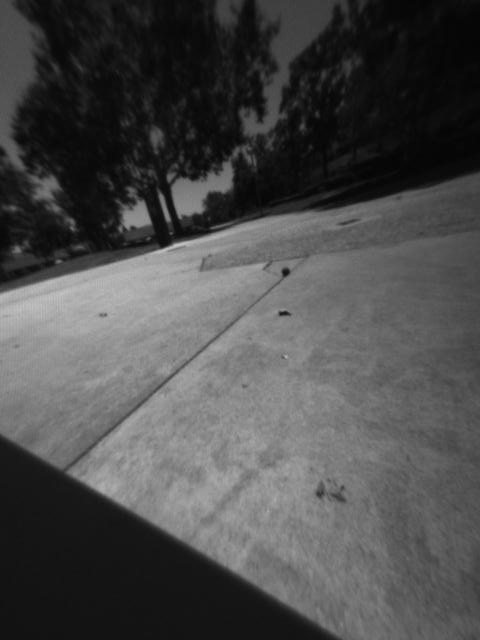dogtoy: (267, 259, 298, 282)
